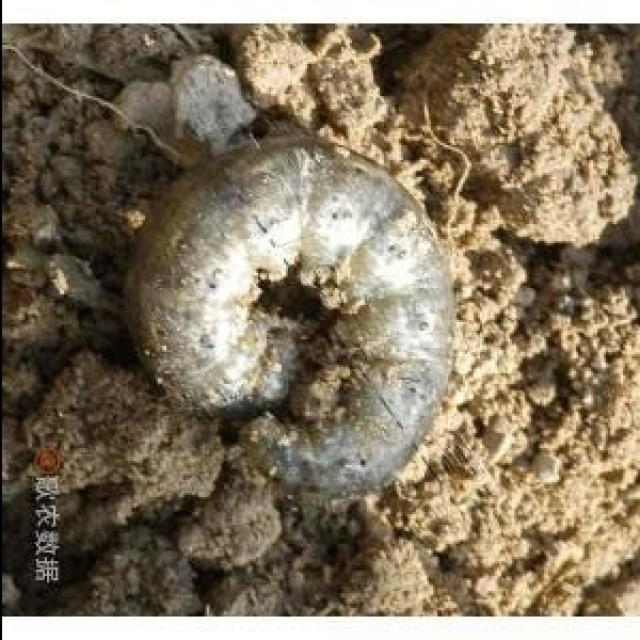black cutworm: (122, 143, 461, 520)
